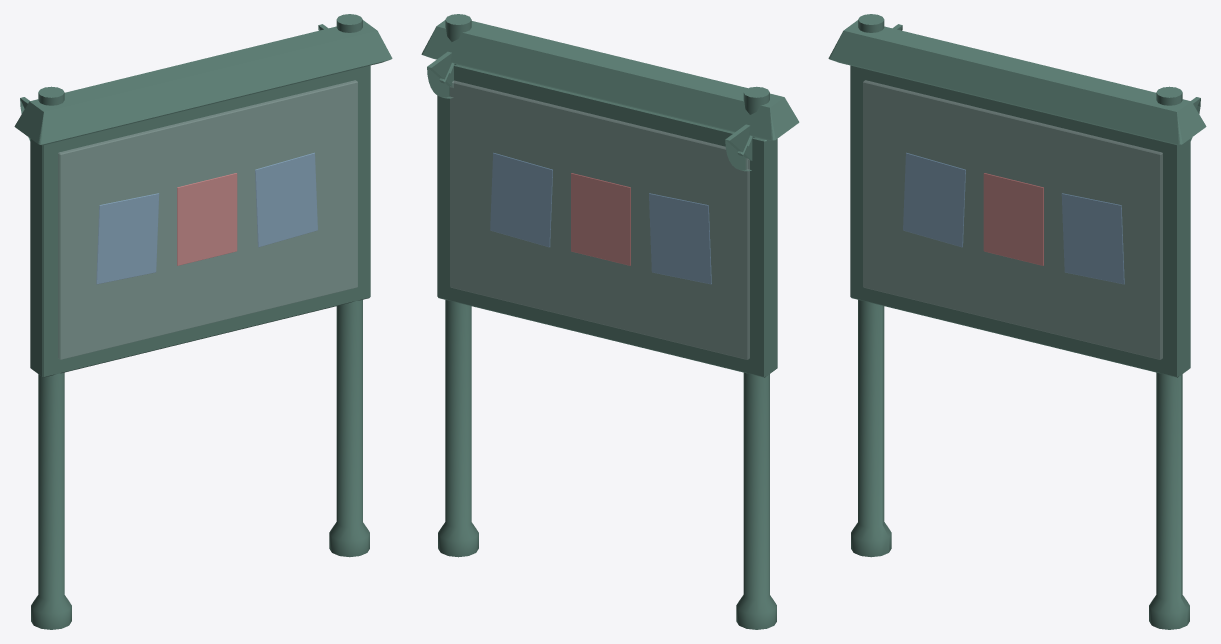
The model's file is indoor-market-hall-and-traders-information-board-04c099de.glb.
3 renders of one model, left to right at view 1: azimuth 30°, elevation 25°; view 2: azimuth 150°, elevation 25°; view 3: azimuth 330°, elevation 25°, orthographic.
Visible parts, largest first — view 1: information-board; view 2: information-board; view 3: information-board.
Boxes of the visible parts, x1,y1,x2,y2 form: information-board: (14, 14, 392, 629); information-board: (421, 14, 799, 629); information-board: (828, 14, 1206, 629).
Size of the model in its own units: 1.4 by 2 by 0.3101.
